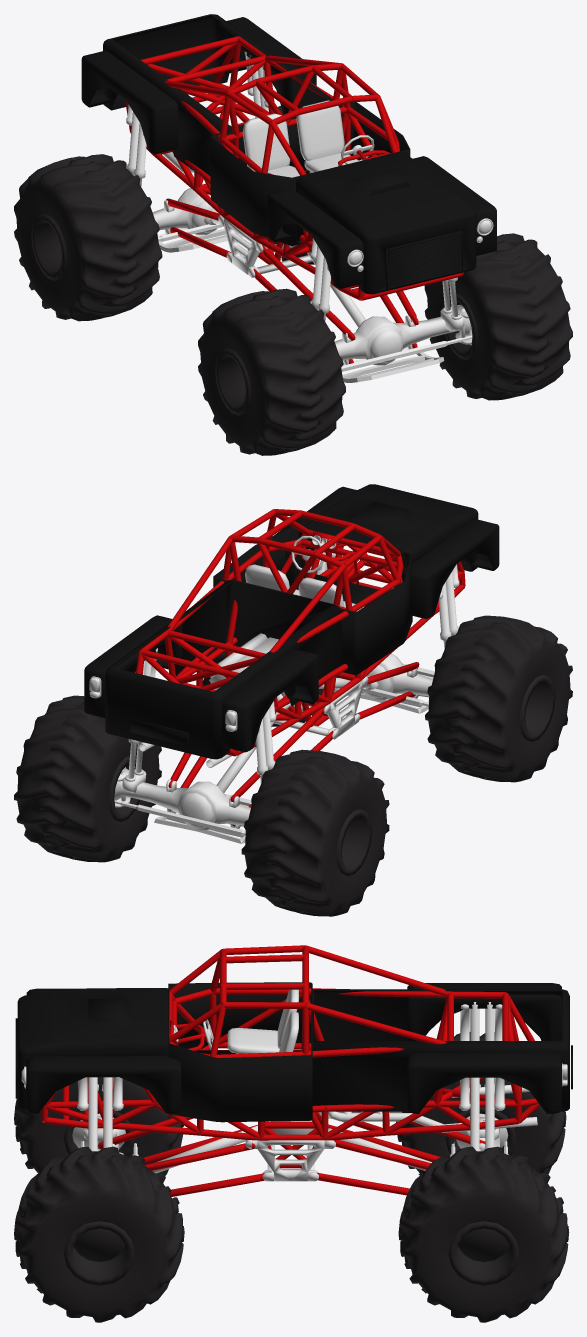
Rendered from MonsterTruck.fbx.
The picture shows the model from 3 angles, top to bottom: view 1: azimuth 30°, elevation 25°; view 2: azimuth 150°, elevation 25°; view 3: azimuth 270°, elevation 25°; orthographic projection. The views are drawn at different scales.
Visible parts, largest first — view 1: Hull, TireFR, TireRR, TireFL, FrameUV, FrontAxle, Seats, RearAxle, SwingarmPivot, ShockFR, ShockRR, TieRodFRUpper (+1 smaller); view 2: Hull, TireRR, TireFR, FrameUV, TireRL, RearAxle, FrontAxle, Seats, SwingarmPivot, ShockFR, ShockRR, Engine (+2 smaller); view 3: Hull, TireFL, TireRL, FrameUV, TireFR, TireRR, Seats, ShockFL, ShockRL, SwingarmPivot, ShockRR, Exhaust (+9 smaller).
Boxes of the visible parts, <box> form: Hull: <box>81,14,496,294</box>; TireFR: <box>198,288,345,455</box>; TireRR: <box>14,154,162,321</box>; TireFL: <box>424,233,572,400</box>; FrameUV: <box>126,36,463,300</box>; FrontAxle: <box>335,304,472,382</box>; Seats: <box>242,100,358,177</box>; RearAxle: <box>152,188,242,252</box>; SwingarmPivot: <box>224,218,312,274</box>; ShockFR: <box>310,238,330,313</box>; ShockRR: <box>126,104,146,178</box>; TieRodFRUpper: <box>262,245,355,340</box>; Hull: <box>84,484,499,759</box>; TireRR: <box>241,749,389,916</box>; TireFR: <box>425,615,572,782</box>; FrameUV: <box>135,509,465,756</box>; TireRL: <box>14,695,161,862</box>; RearAxle: <box>114,779,251,843</box>; FrontAxle: <box>334,653,434,713</box>; Seats: <box>245,564,364,611</box>; SwingarmPivot: <box>274,679,362,736</box>; ShockFR: <box>438,564,459,640</box>; ShockRR: <box>256,701,276,775</box>; Engine: <box>209,633,301,710</box>; Hull: <box>15,982,572,1122</box>; TireFL: <box>14,1146,184,1322</box>; TireRL: <box>398,1146,569,1322</box>; FrameUV: <box>41,945,539,1168</box>; TireFR: <box>14,1078,183,1175</box>; TireRR: <box>396,1032,566,1175</box>; Seats: <box>227,989,298,1053</box>; ShockFL: <box>77,1077,123,1151</box>; ShockRL: <box>459,1077,505,1151</box>; SwingarmPivot: <box>257,1140,324,1181</box>; ShockRR: <box>460,1002,502,1087</box>; Exhaust: <box>328,1085,537,1132</box>.
Size of what is drawn, in the model's own units: 297 by 254 by 452.
